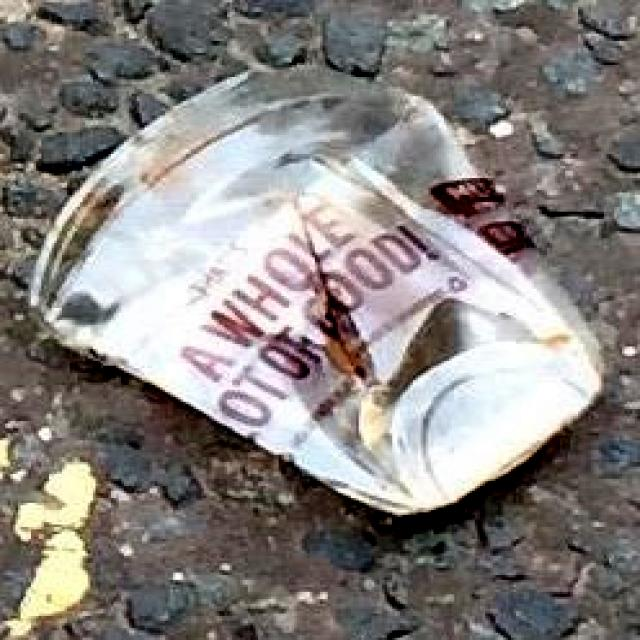Trash: (14, 53, 620, 537)
